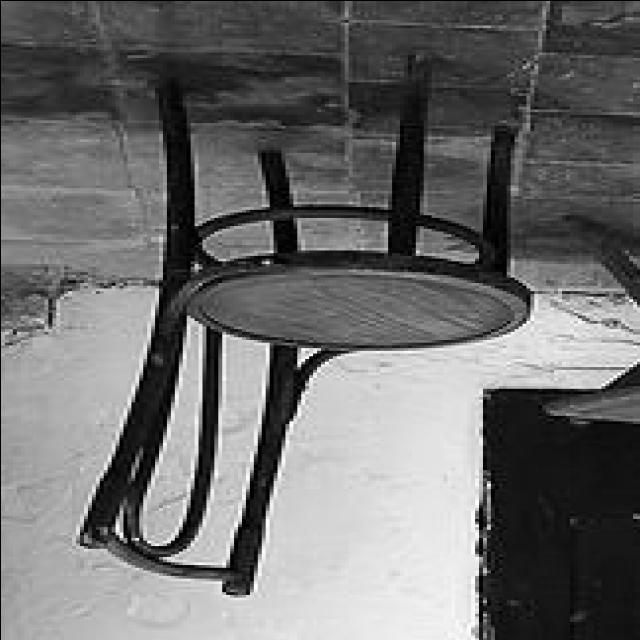chair: (79, 55, 538, 600)
